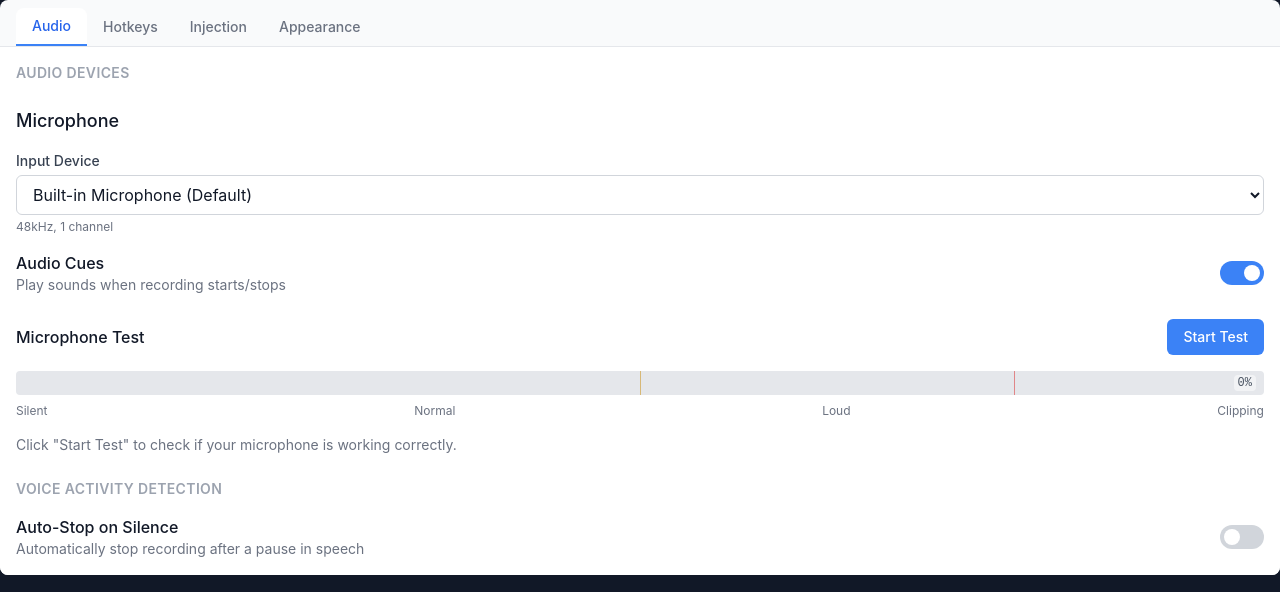
Test: SettingsPanel › switches to hotkeys tab
Click the tab "Hotkeys".
click(130, 27)  # box [87,8,174,46]
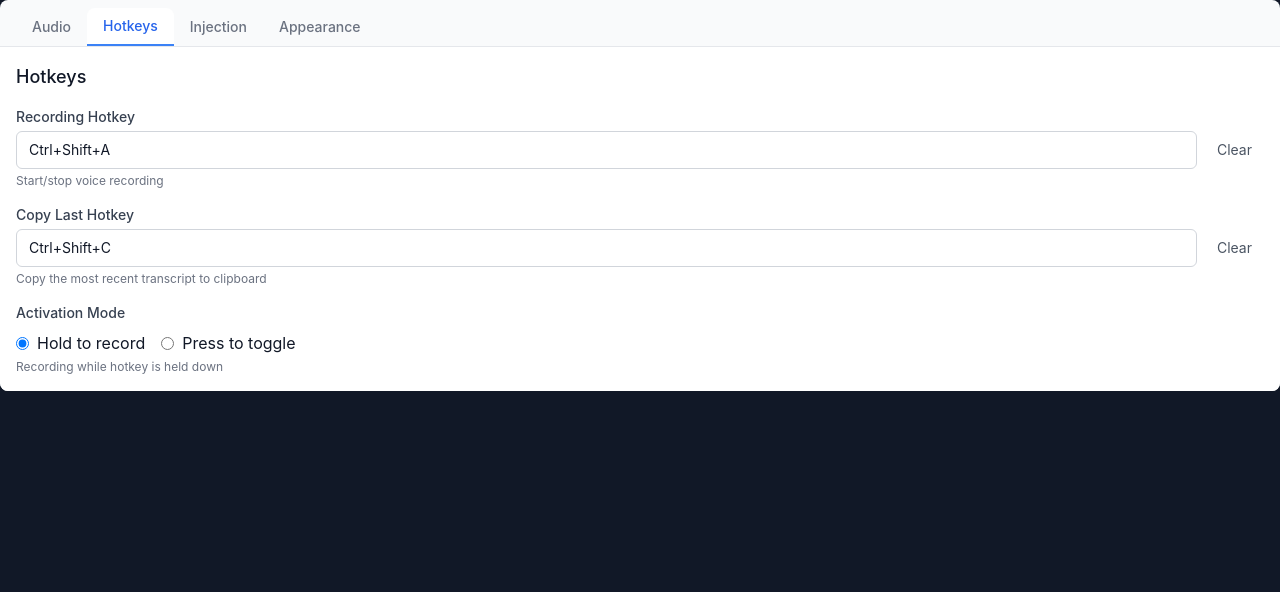
Now the text "Recording Hotkey" is shown, box [16,108,135,125]
